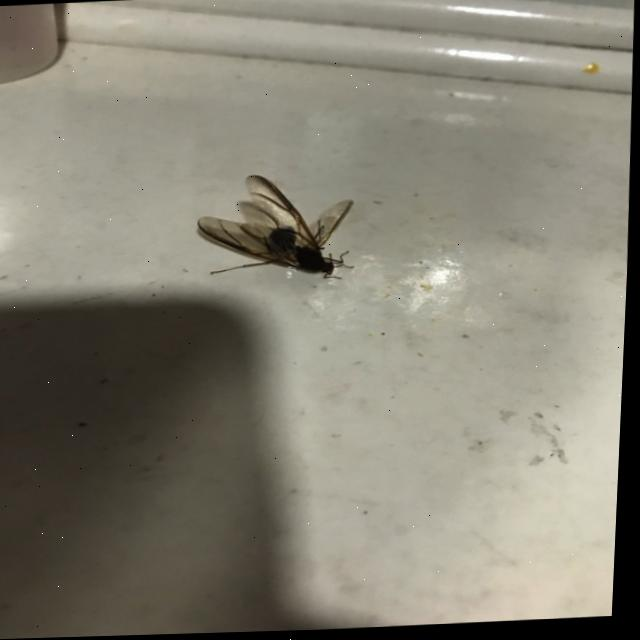Alive-Male-Alate: (196, 172, 361, 287)
